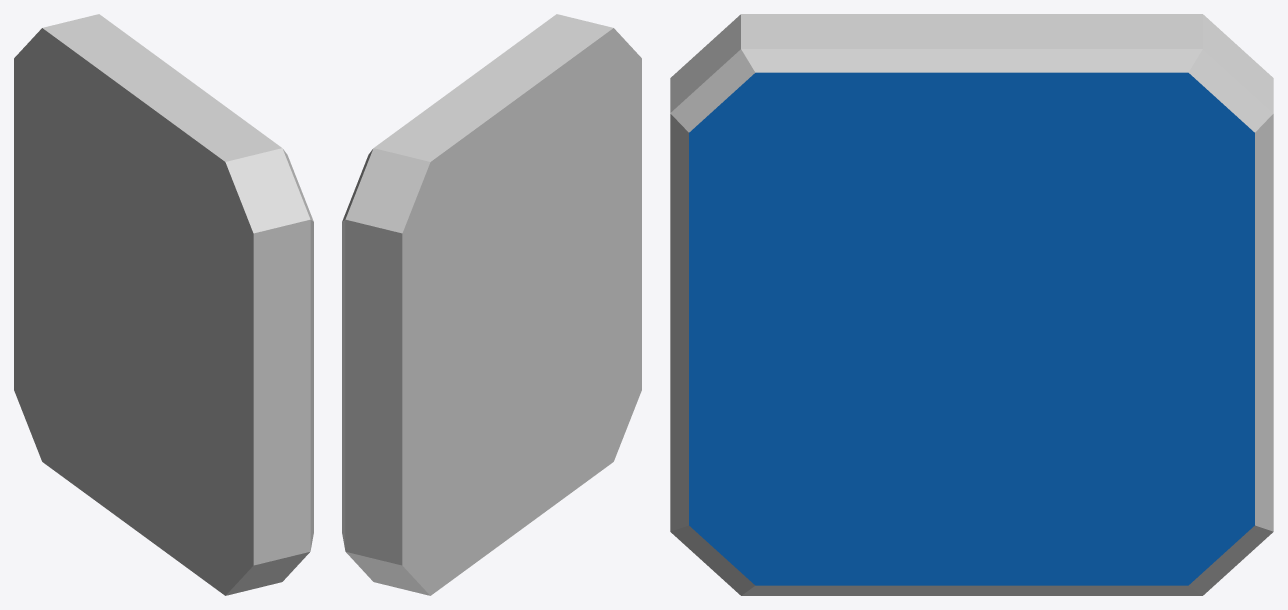
File: LaserTarget.fbx
The picture shows the model from 3 angles, left to right: view 1: azimuth 30°, elevation 25°; view 2: azimuth 150°, elevation 25°; view 3: azimuth 270°, elevation 25°; orthographic projection. The views are drawn at different scales.
Parts seen in each view (by area): view 1: Cube; view 2: Cube; view 3: Cube.
Part boxes in pixels (x1,y1,x2,y2): Cube: (14,14,313,595); Cube: (342,14,641,595); Cube: (670,14,1273,595).
Size of the model in its own units: 16.35 by 100 by 100.
